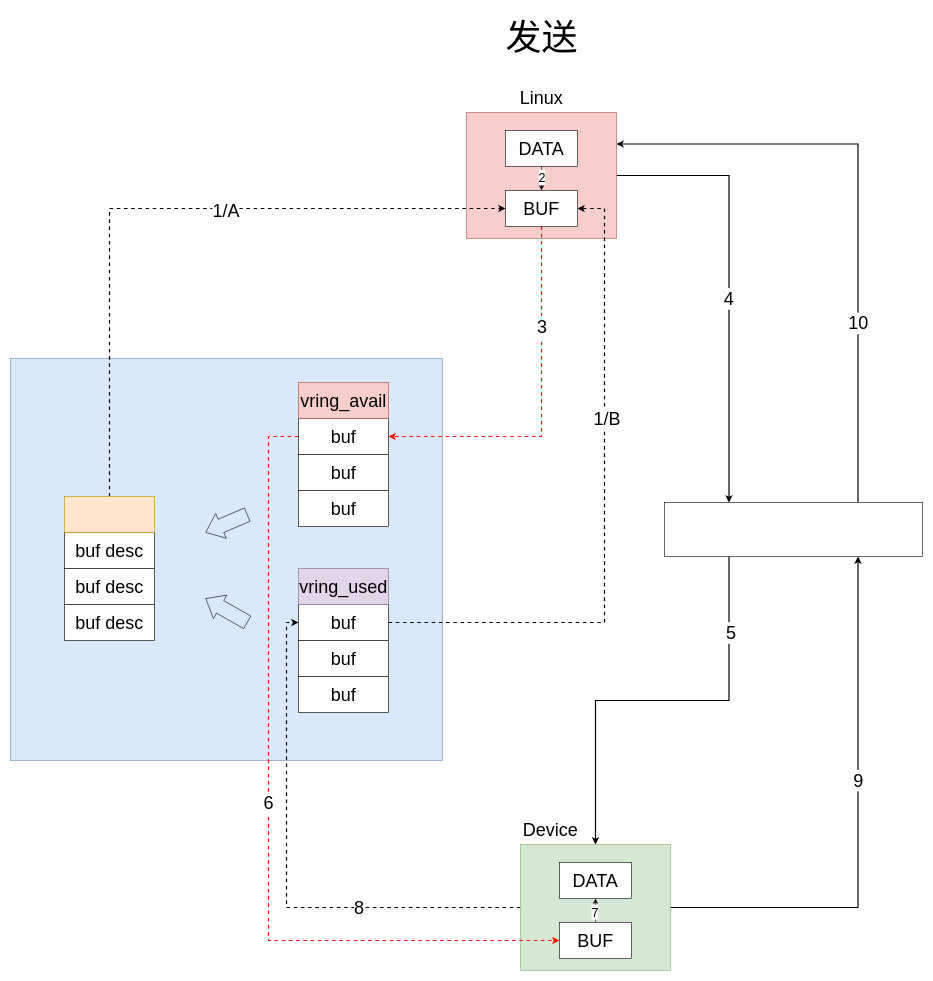
This 933x981 diagram has some shape labels left out. Each missing label, with the box of its shape:
MU: (664, 502, 922, 556)
vring_desc: (64, 496, 154, 532)
